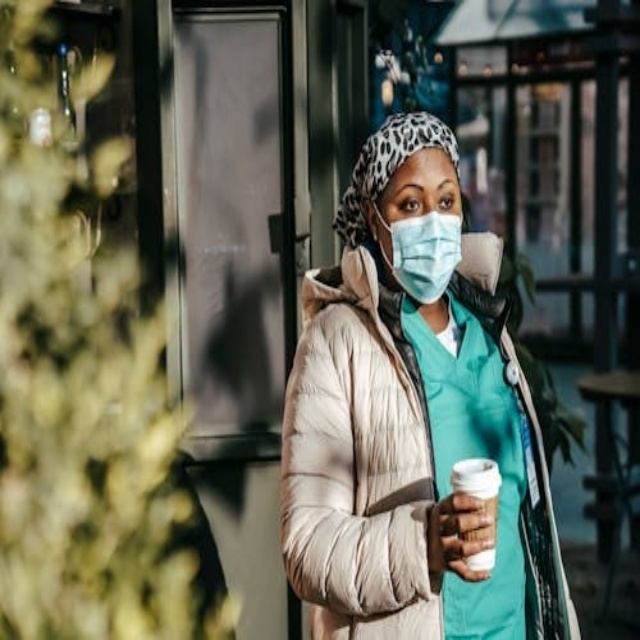Mascara: (378, 202, 463, 304)
Sin_gafas: (399, 198, 422, 213), (437, 196, 454, 211)
Sin_guantes: (434, 481, 496, 582)
